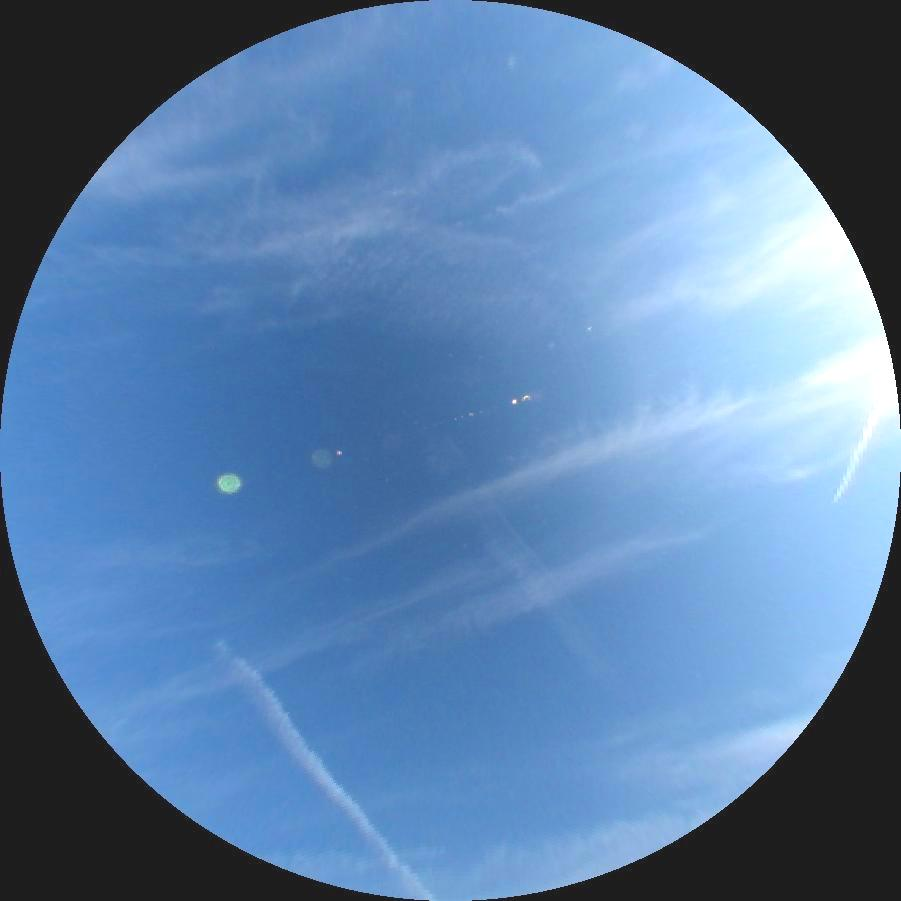contrail veryold: (406, 422, 643, 722)
contrail young: (833, 370, 899, 505)
